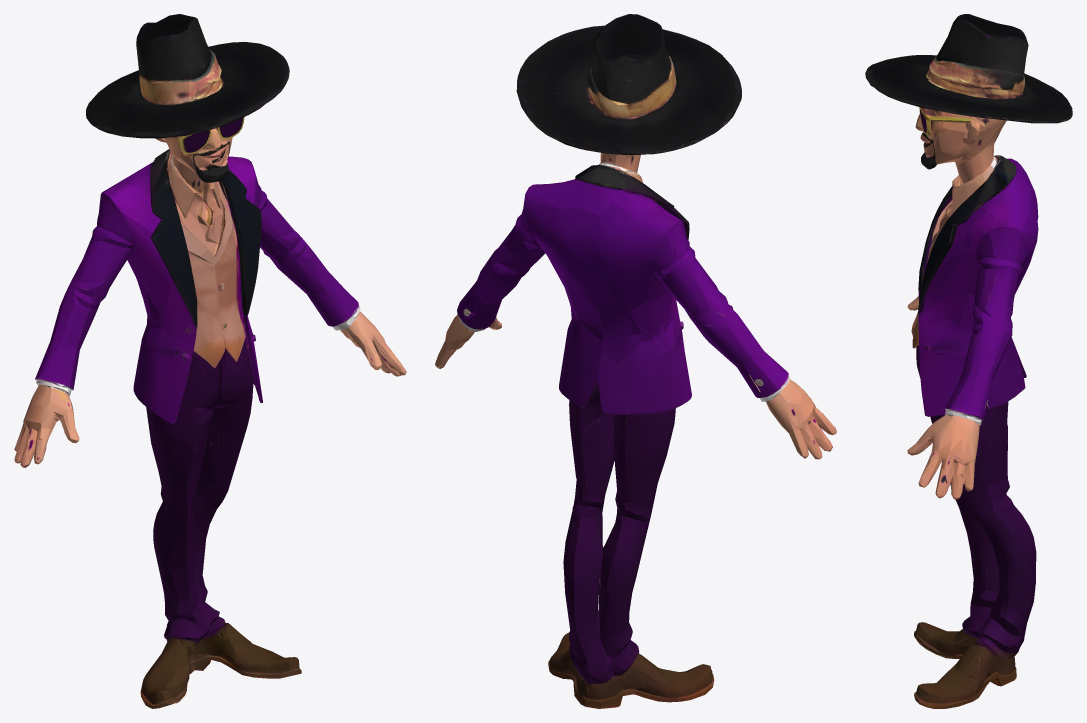
Rendered from maciota-apose.glb.
The picture shows the model from 3 angles, left to right: view 1: azimuth 30°, elevation 25°; view 2: azimuth 150°, elevation 25°; view 3: azimuth 270°, elevation 25°; orthographic projection. The views are drawn at different scales.
Parts seen in each view (by area): view 1: Mesh_0; view 2: Mesh_0; view 3: Mesh_0.
Part boxes in pixels (<box>): Mesh_0: <box>14,14,406,708</box>; Mesh_0: <box>435,14,836,708</box>; Mesh_0: <box>865,14,1072,708</box>.
Bounding box in the file's own units: 1.14 × 1.9 × 0.5501.
1 material, 1 textured.
